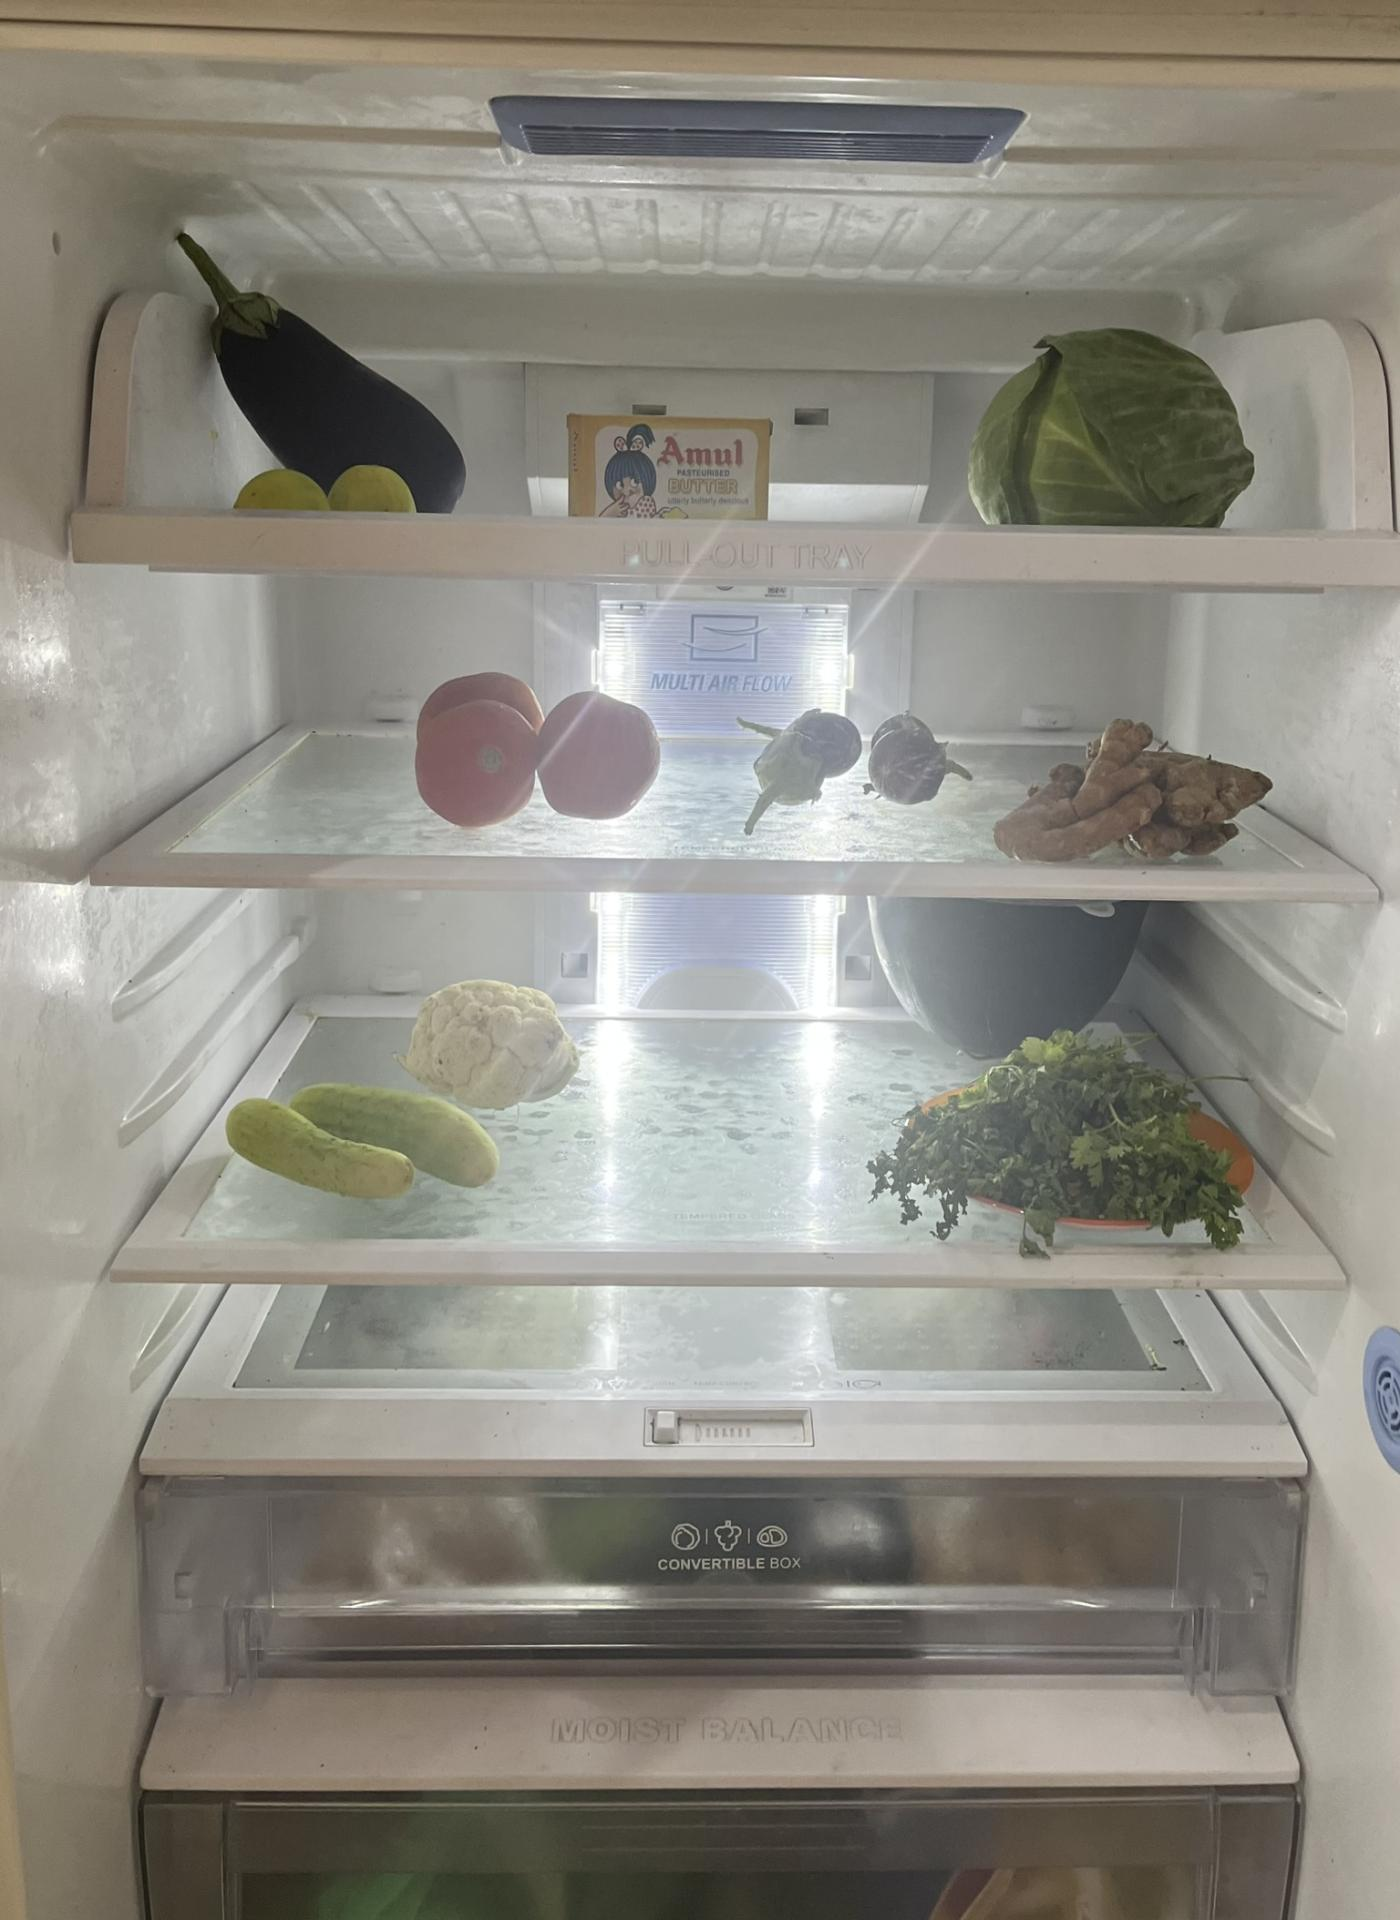brinjal: (171, 219, 474, 516), (742, 710, 959, 821)
butter: (574, 408, 778, 517)
cabbage: (962, 326, 1258, 525)
cauliflower: (400, 967, 586, 1109)
coriander: (887, 1033, 1246, 1225)
cucumber: (219, 1072, 510, 1203)
ginger: (1000, 726, 1270, 859)
lemon: (243, 459, 428, 519)
tomato: (412, 662, 543, 832), (541, 677, 665, 827)
watermelon: (866, 897, 1145, 1060)
